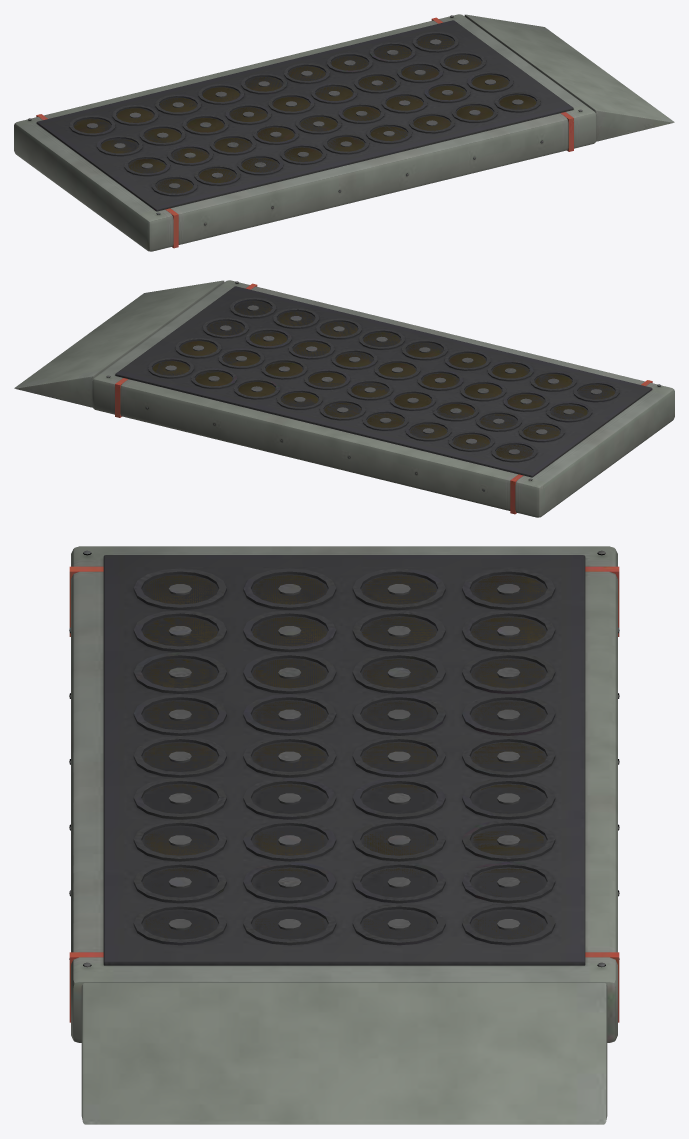
File: flares_2.glb
The picture shows the model from 3 angles, top to bottom: view 1: azimuth 30°, elevation 25°; view 2: azimuth 150°, elevation 25°; view 3: azimuth 270°, elevation 25°; orthographic projection. The views are drawn at different scales.
Parts seen in each view (by area): view 1: flares_2; view 2: flares_2; view 3: flares_2.
Boxes of the visible parts, <box> form: flares_2: <box>14,14,674,251</box>; flares_2: <box>14,280,674,517</box>; flares_2: <box>69,546,619,1124</box>.
Size of the model in its own units: 0.8489 by 0.0551 by 0.382.
5 materials, 5 textured.
